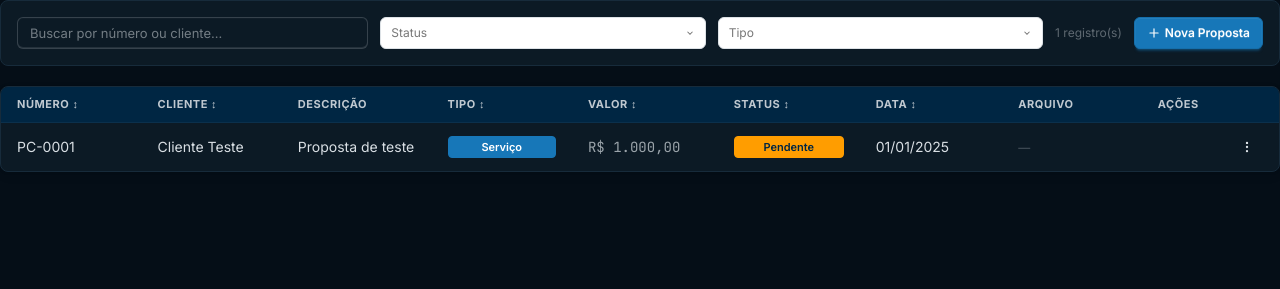
it: exibe ações aceitar/recusar para propostas pendentes quando usuário é admin
Click the button named "Ações" at (1247, 146), box [1231,134,1263,158]
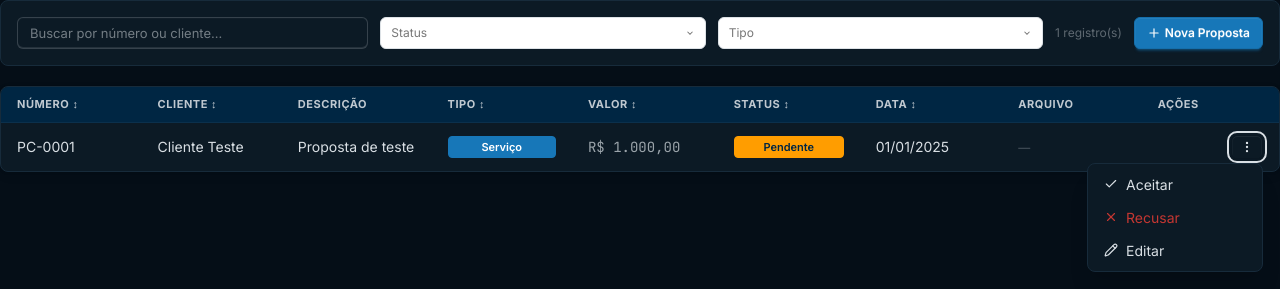
Expected: the button "Aceitar" is shown, [1092,168,1258,200]
Expected: the button "Recusar" is shown, [1092,200,1258,234]
